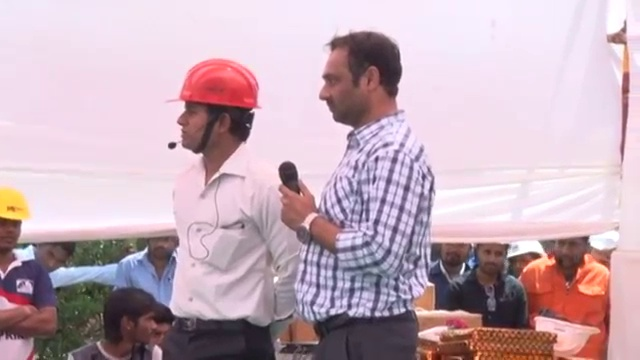helmet: (159, 57, 267, 118), (531, 315, 598, 358), (0, 182, 34, 222), (510, 236, 546, 262)
helmet_off: (317, 26, 407, 133), (99, 293, 159, 353), (547, 235, 592, 277), (30, 240, 74, 280), (142, 299, 176, 347), (136, 233, 177, 269), (477, 242, 512, 278), (440, 240, 470, 274)
helmet_on: (157, 55, 273, 173), (0, 185, 31, 259), (508, 236, 549, 279)
person: (277, 27, 435, 360), (144, 40, 307, 360), (525, 233, 611, 358), (1, 186, 58, 360), (439, 242, 528, 327), (65, 288, 164, 359), (115, 229, 180, 300), (426, 240, 477, 306)
